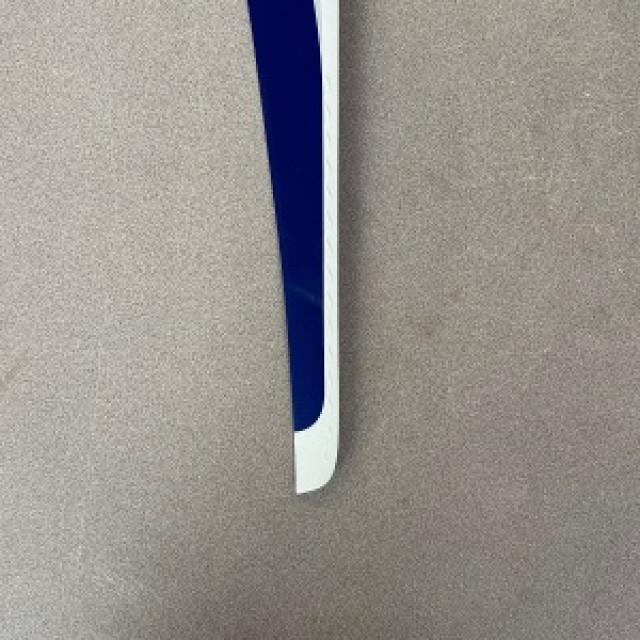healthy: (247, 0, 337, 491)
